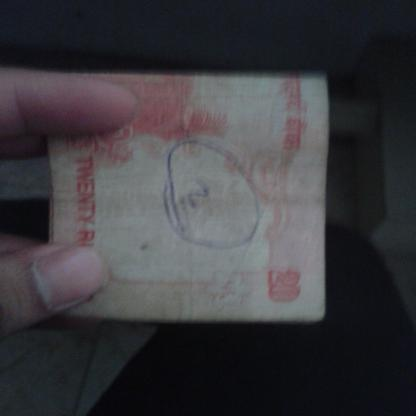Old20Back: (46, 74, 326, 324)
